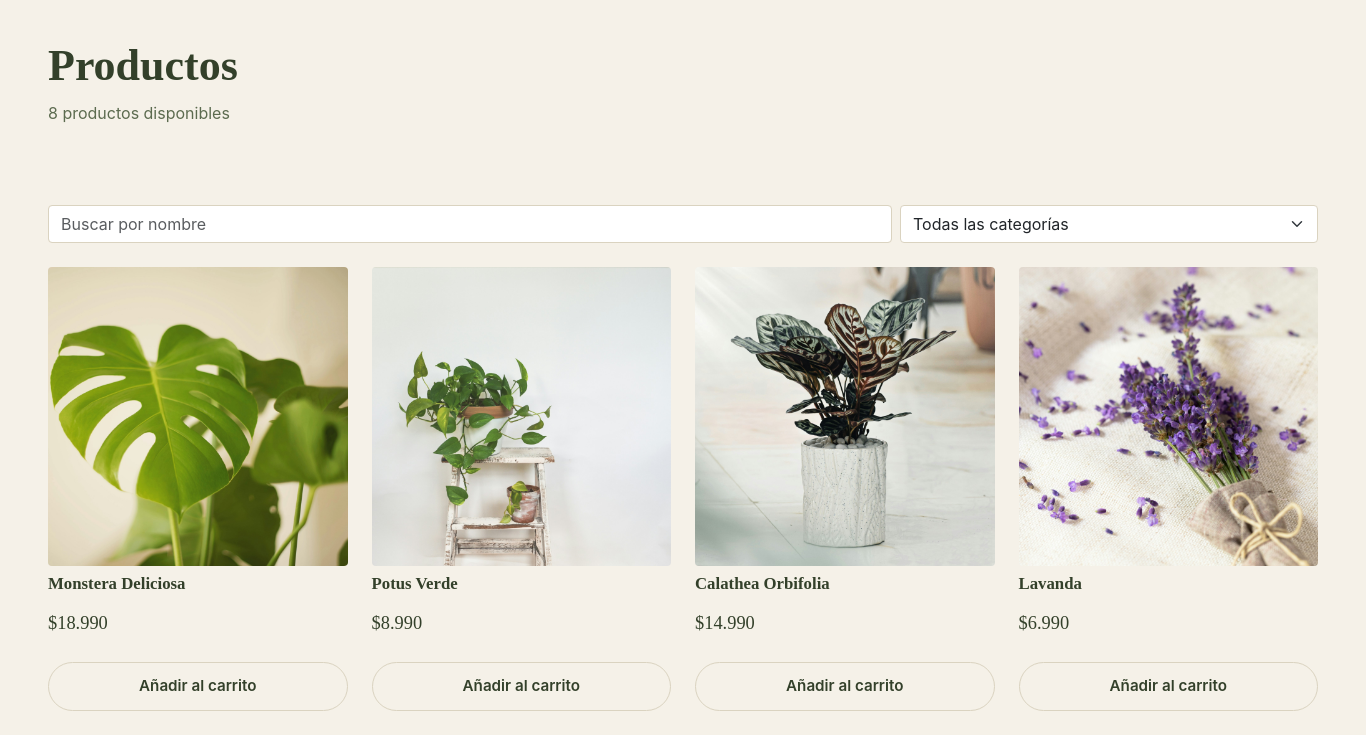
Test case: Productos (filtros) › filtra por texto de búsqueda
This screenshot has width=1366, height=735.
Type "monstera" into the search field named "Buscar producto" at (470, 224), box [48, 205, 892, 243]
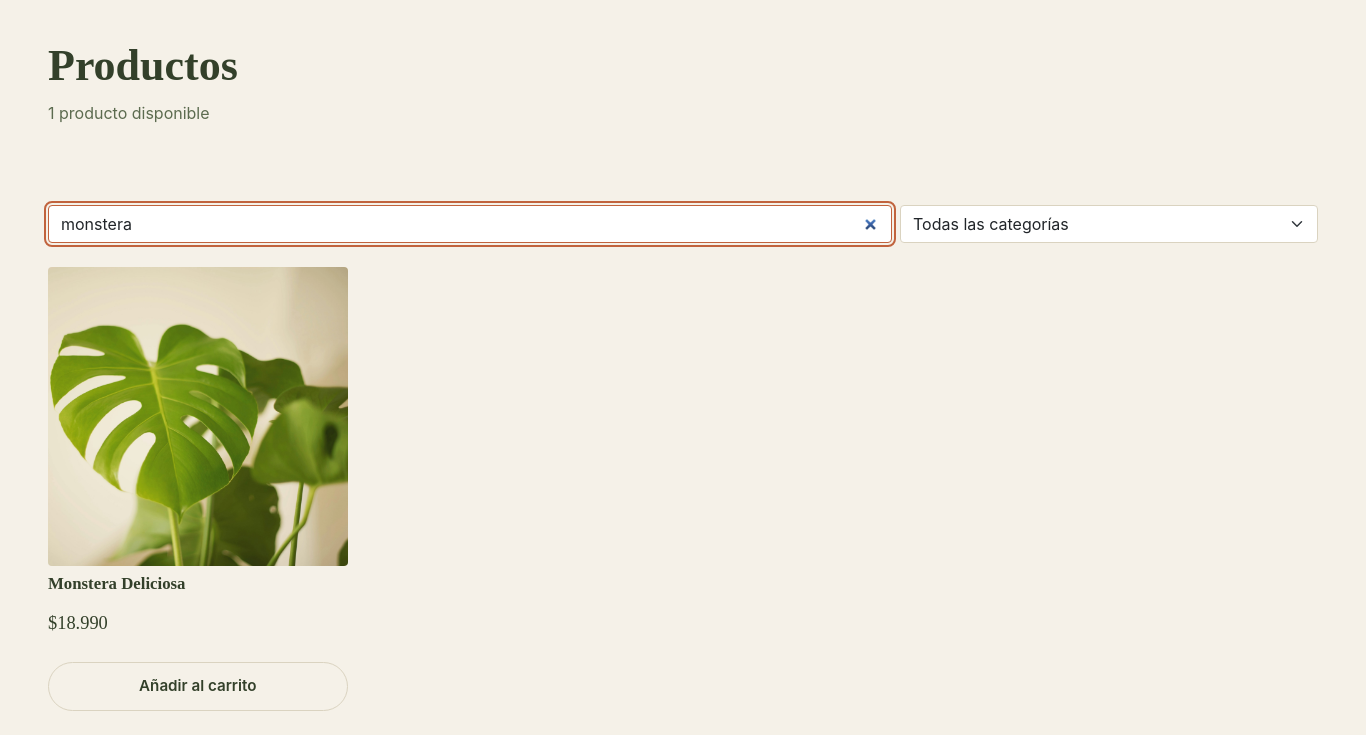
Expected: the text "1 producto disponible" is shown, [48, 103, 210, 123]
